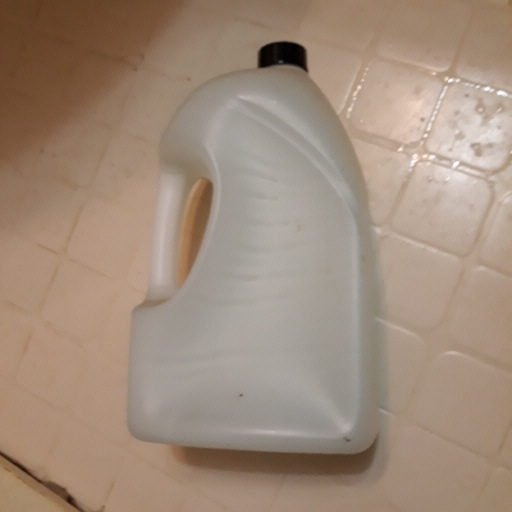Plastic_1: (126, 38, 380, 457)
